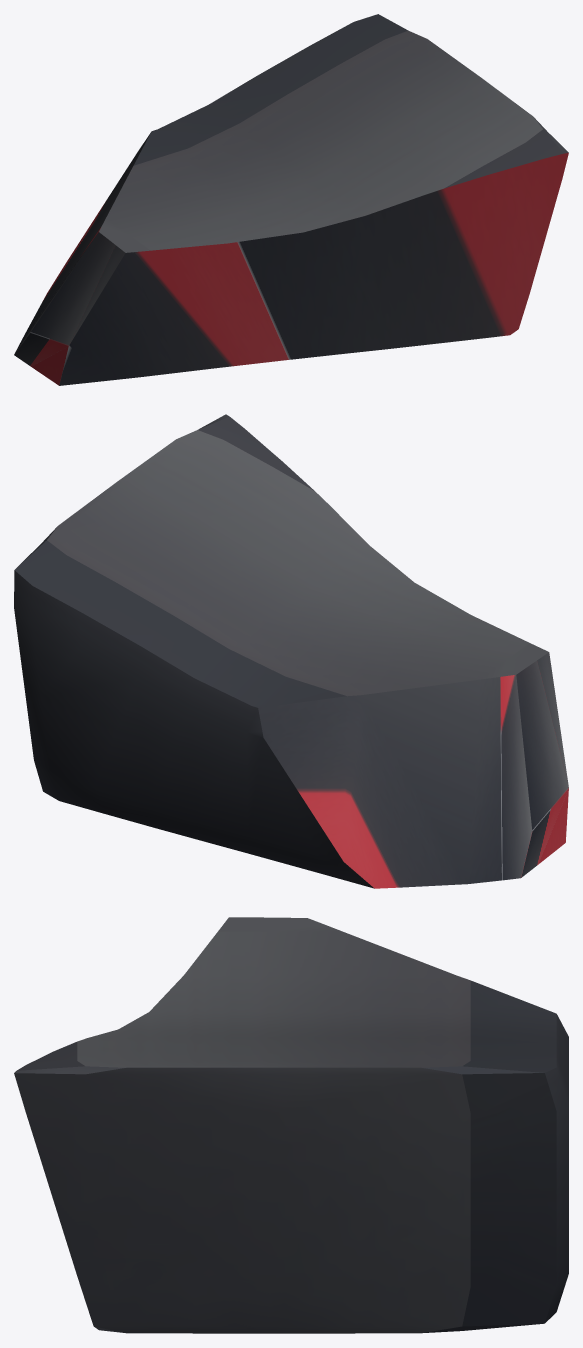
Rendered from torii_broken_022.obj.
3 views of the same model, one above another, from view 1: azimuth 30°, elevation 25°; view 2: azimuth 150°, elevation 25°; view 3: azimuth 270°, elevation 25° (orthographic). The views are drawn at different scales.
Parts seen in each view (by area): view 1: 鳥居.001_cell.022_鳥居.001_cell.012; view 2: 鳥居.001_cell.022_鳥居.001_cell.012; view 3: 鳥居.001_cell.022_鳥居.001_cell.012.
Boxes of the visible parts, x1,y1,x2,y2 form: 鳥居.001_cell.022_鳥居.001_cell.012: (14, 14, 568, 385); 鳥居.001_cell.022_鳥居.001_cell.012: (14, 414, 568, 888); 鳥居.001_cell.022_鳥居.001_cell.012: (14, 917, 568, 1333).
Size of the model in its own units: 0.4886 by 0.2424 by 0.4054.
Materials: 1 (1 with a texture image).
